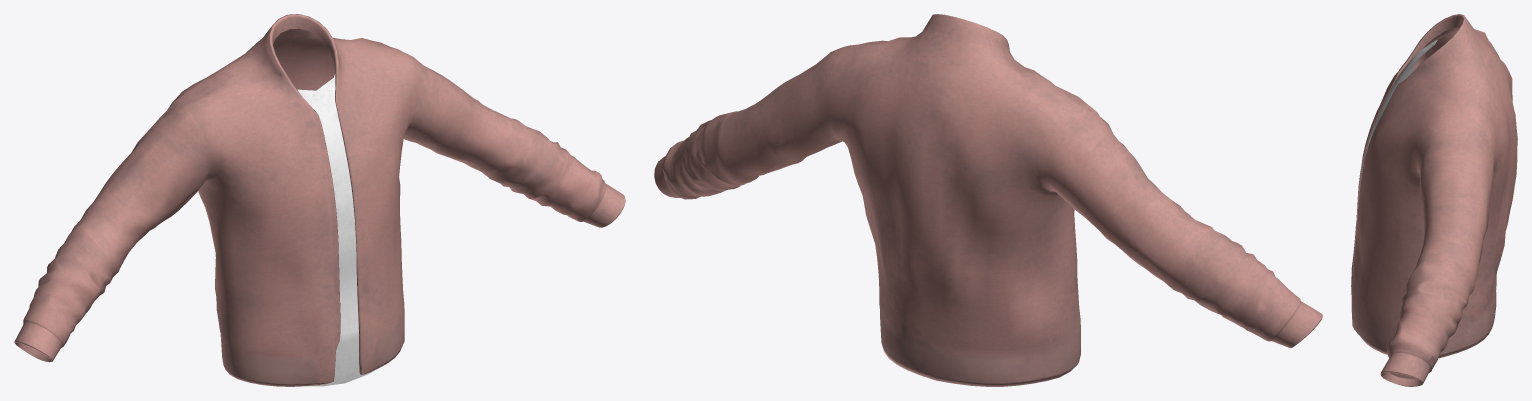
3 views of the same model, side by side, from view 1: azimuth 30°, elevation 25°; view 2: azimuth 150°, elevation 25°; view 3: azimuth 270°, elevation 25° (orthographic). The views are drawn at different scales.
Visible parts, largest first — view 1: Jacket_low_5, Shirt_low_3; view 2: Jacket_low_5; view 3: Jacket_low_5, Shirt_low_3.
Boxes of the visible parts, box(x1,y1,x2,y2) form: Jacket_low_5: box(14, 14, 625, 386); Shirt_low_3: box(297, 74, 376, 386); Jacket_low_5: box(654, 14, 1322, 386); Jacket_low_5: box(1351, 14, 1517, 386); Shirt_low_3: box(1359, 40, 1437, 194).
Size of the model in its own units: 5.5 by 2.85 by 1.4.
Materials: 1 (1 with a texture image).
